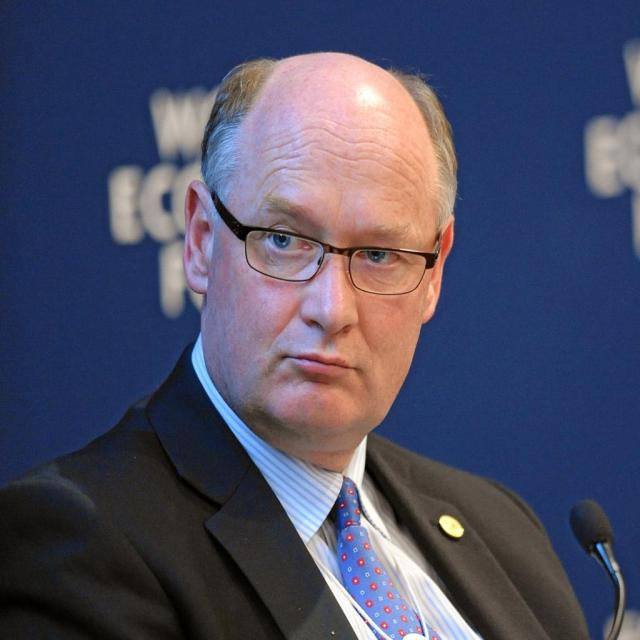Face: (220, 59, 454, 451)
